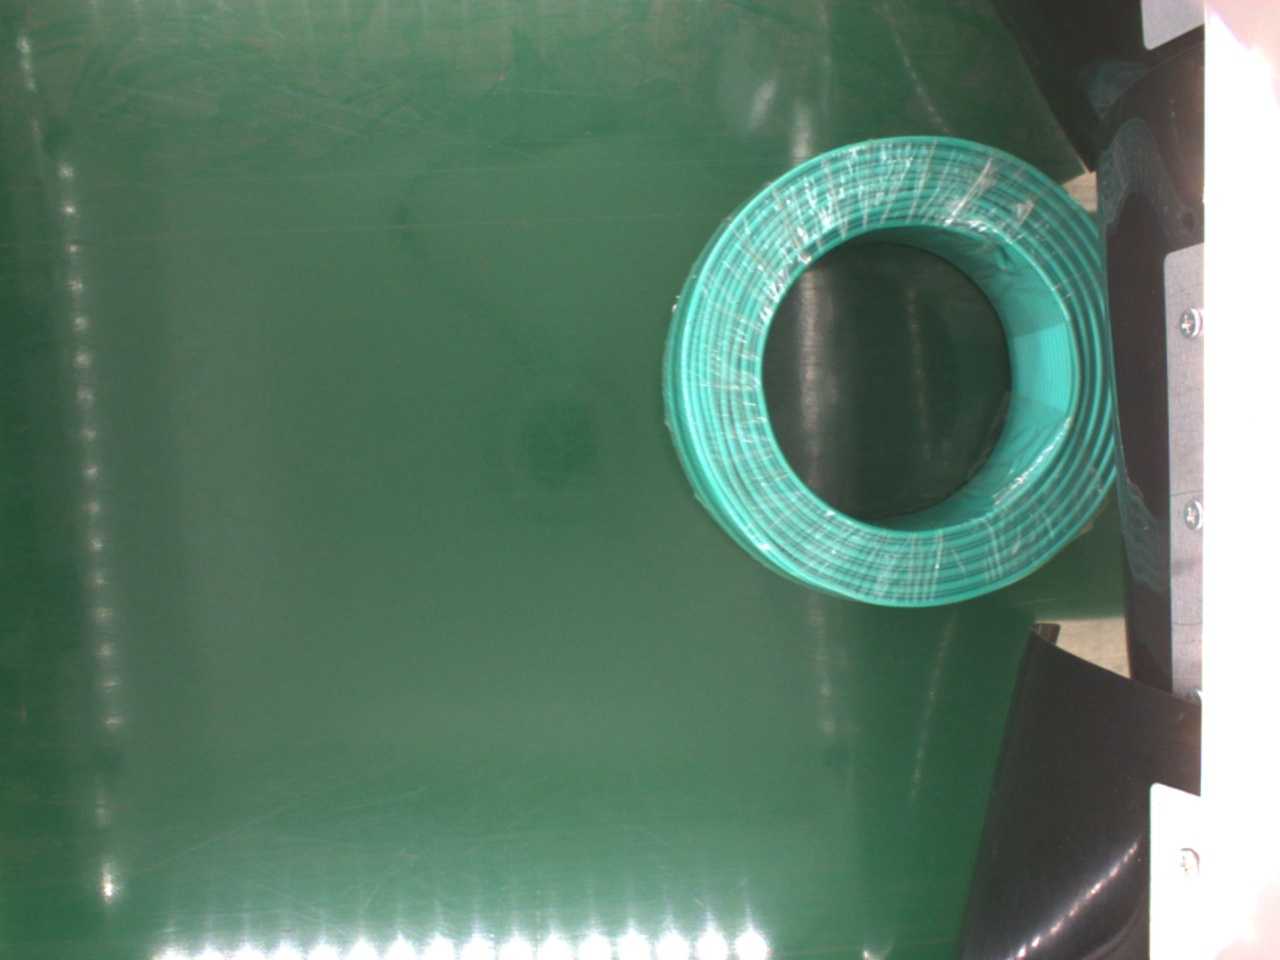green: (665, 134, 1123, 609)
